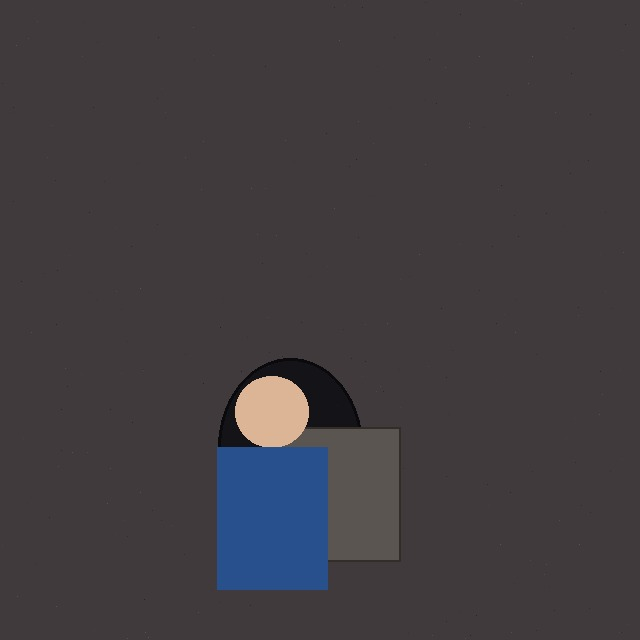concrete_damage: (274, 427, 400, 561)
person: (162, 376, 382, 589)
pothole: (218, 358, 362, 537)
